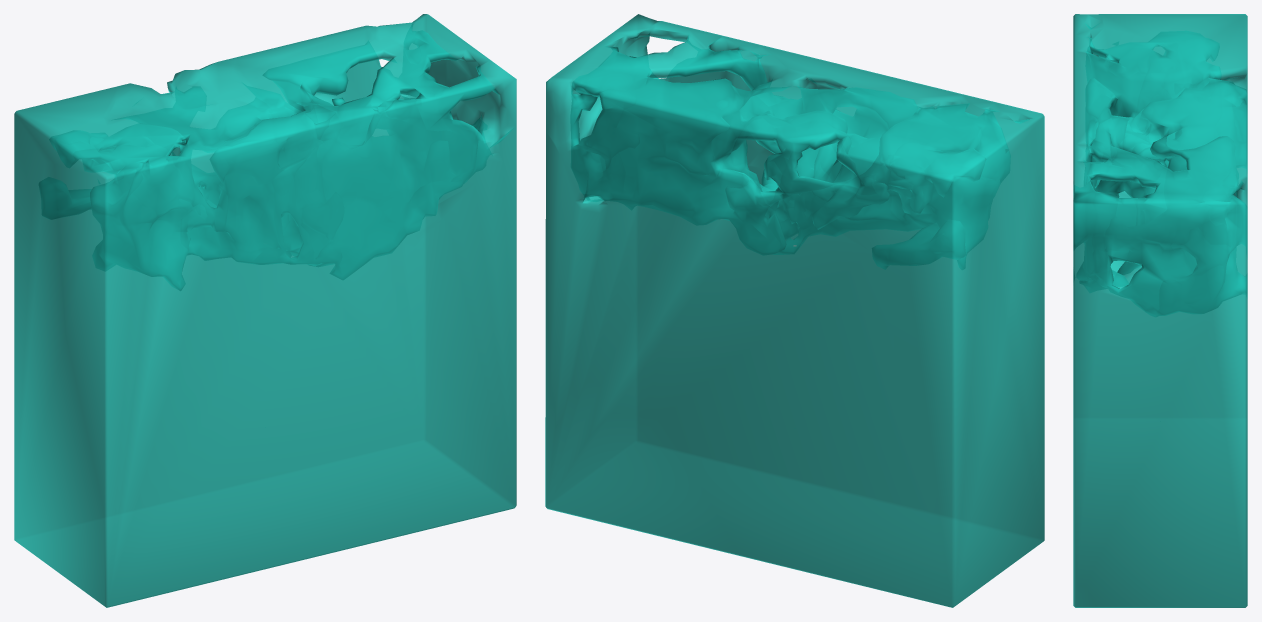
The picture shows the model from 3 angles, left to right: view 1: azimuth 30°, elevation 25°; view 2: azimuth 150°, elevation 25°; view 3: azimuth 270°, elevation 25°; orthographic projection. The views are drawn at different scales.
Visible parts, largest first — view 1: Liquid_Domain; view 2: Liquid_Domain; view 3: Liquid_Domain.
Part boxes in pixels (x1,y1,x2,y2): Liquid_Domain: (14, 14, 516, 607); Liquid_Domain: (545, 14, 1044, 607); Liquid_Domain: (1073, 14, 1247, 607).
Bounding box in the file's own units: 884 × 884 × 344.
